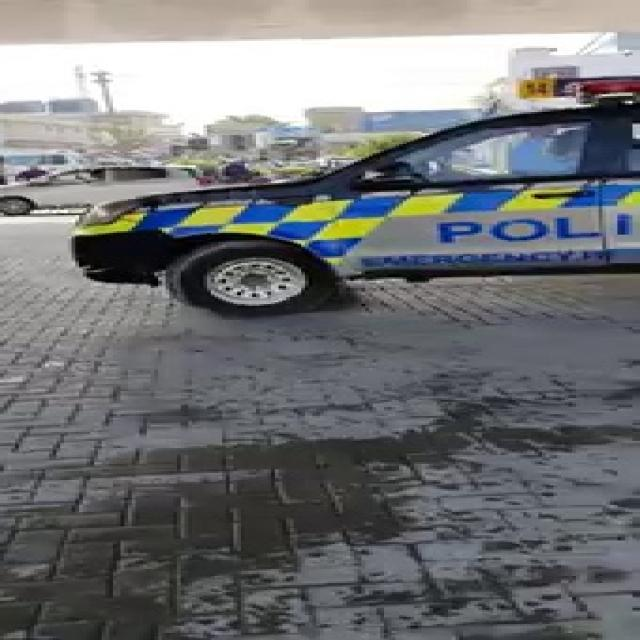police: (75, 92, 640, 300)
